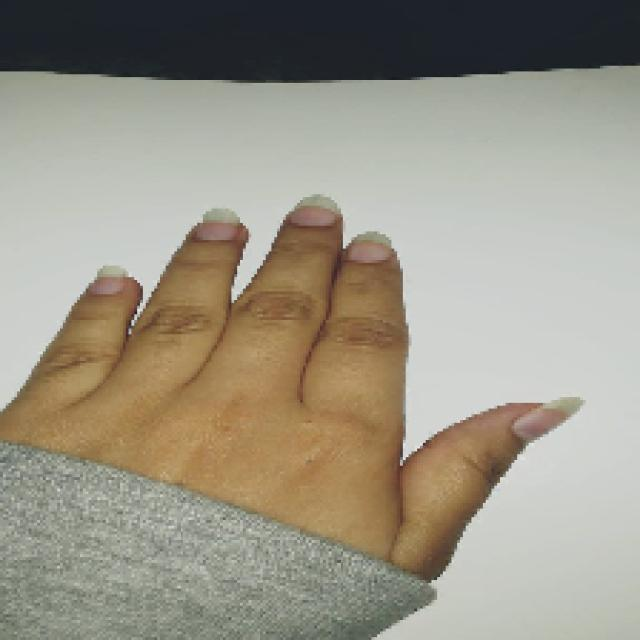Nail: (512, 398, 584, 442), (292, 195, 339, 227), (349, 231, 392, 262), (202, 208, 240, 241), (95, 265, 128, 295)
